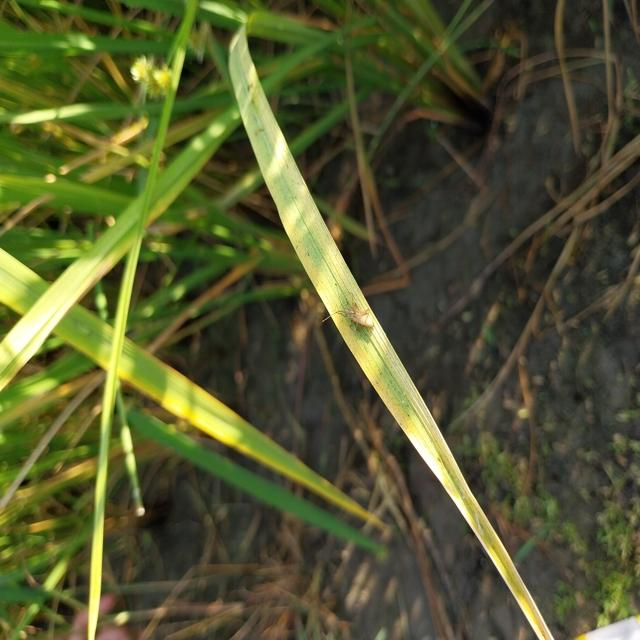healthy: (316, 288, 400, 346)
